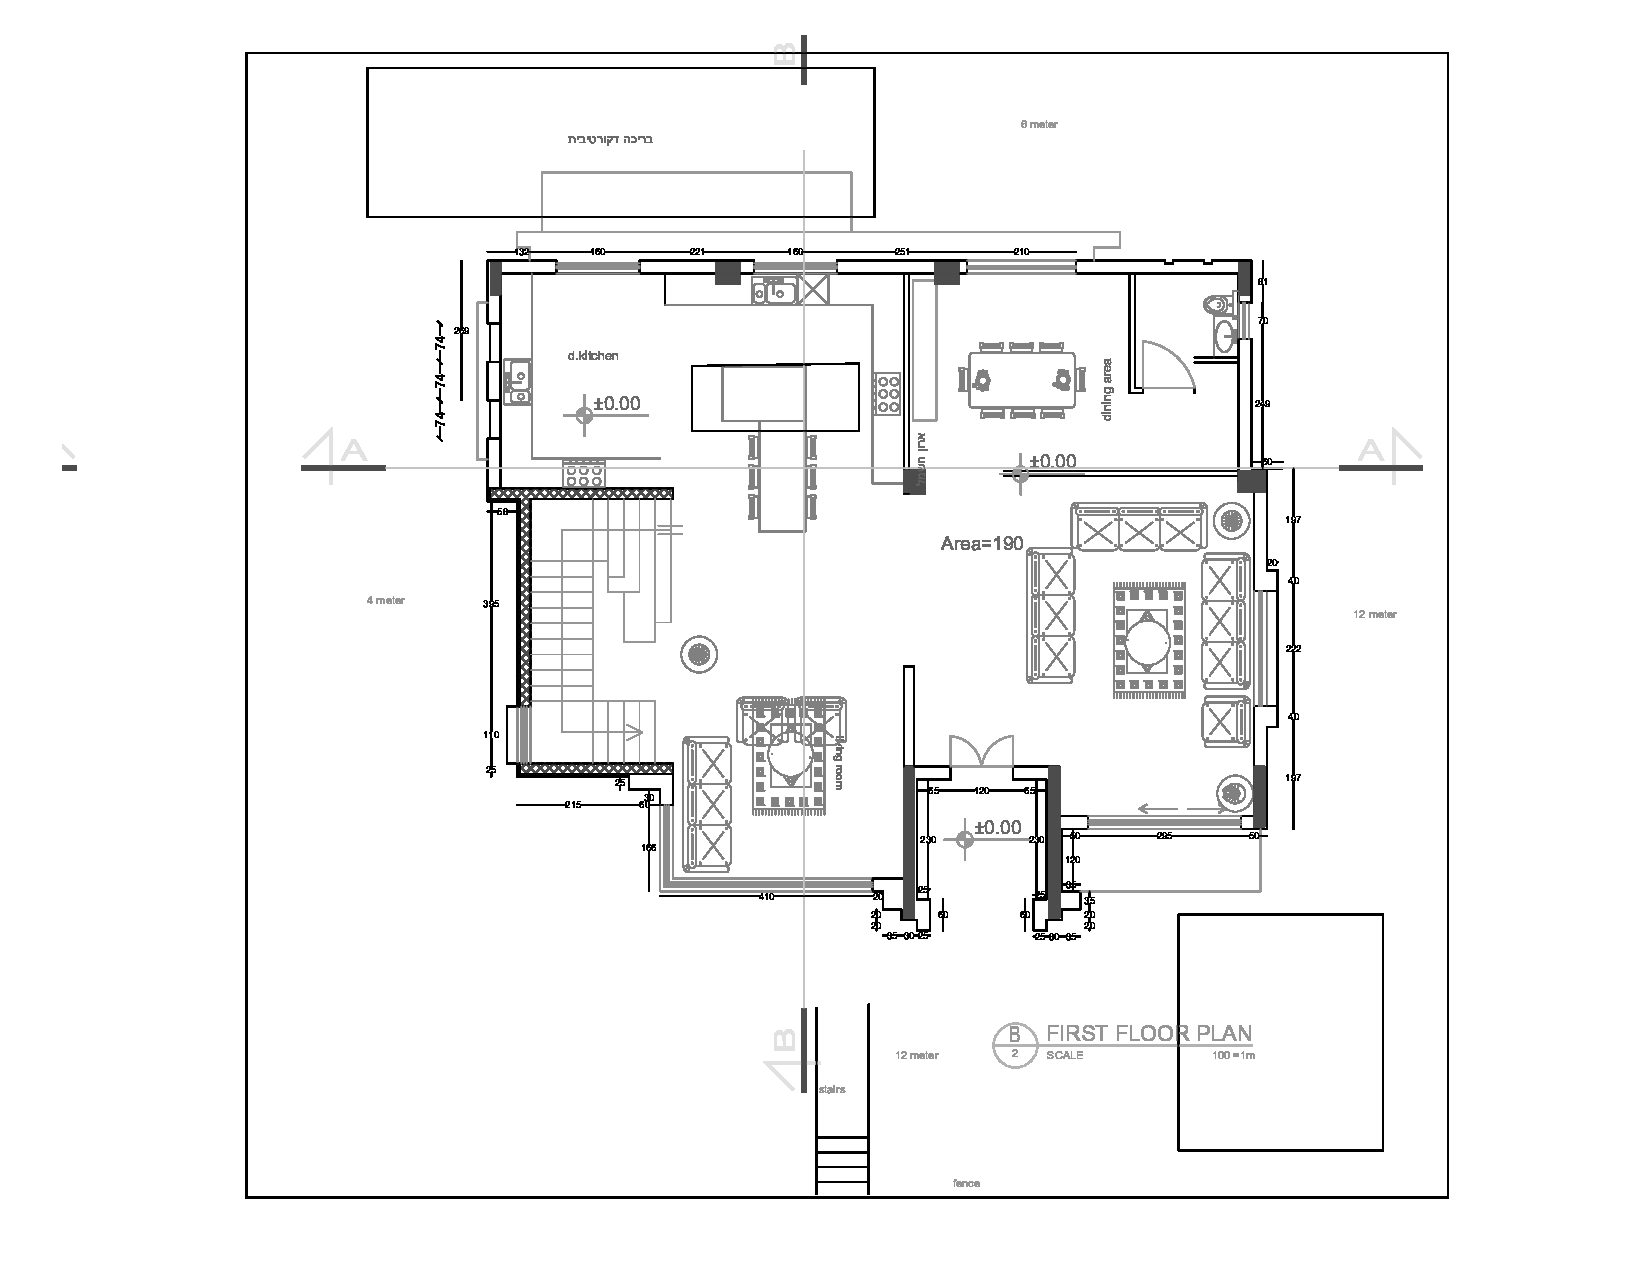door: (1141, 337, 1208, 400), (946, 735, 1027, 779)
room: (545, 517, 901, 864), (939, 471, 1247, 813), (512, 283, 896, 459), (913, 291, 1237, 463)
wall: (1031, 775, 1074, 896), (512, 502, 533, 700), (904, 774, 931, 925), (664, 876, 876, 895), (490, 487, 672, 504), (1045, 770, 1063, 915), (904, 767, 917, 921), (513, 766, 678, 774)
window: (968, 254, 1078, 283), (1251, 595, 1278, 708), (1092, 813, 1239, 833), (976, 257, 1070, 283), (557, 257, 639, 279), (757, 261, 829, 279), (506, 712, 529, 761), (1243, 309, 1259, 331)
